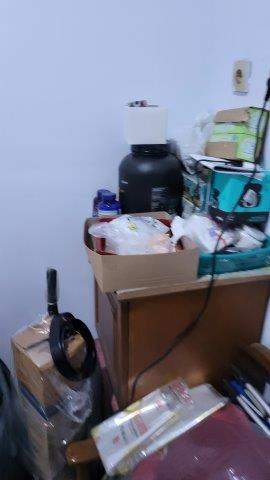plastik: (86, 210, 183, 253)
